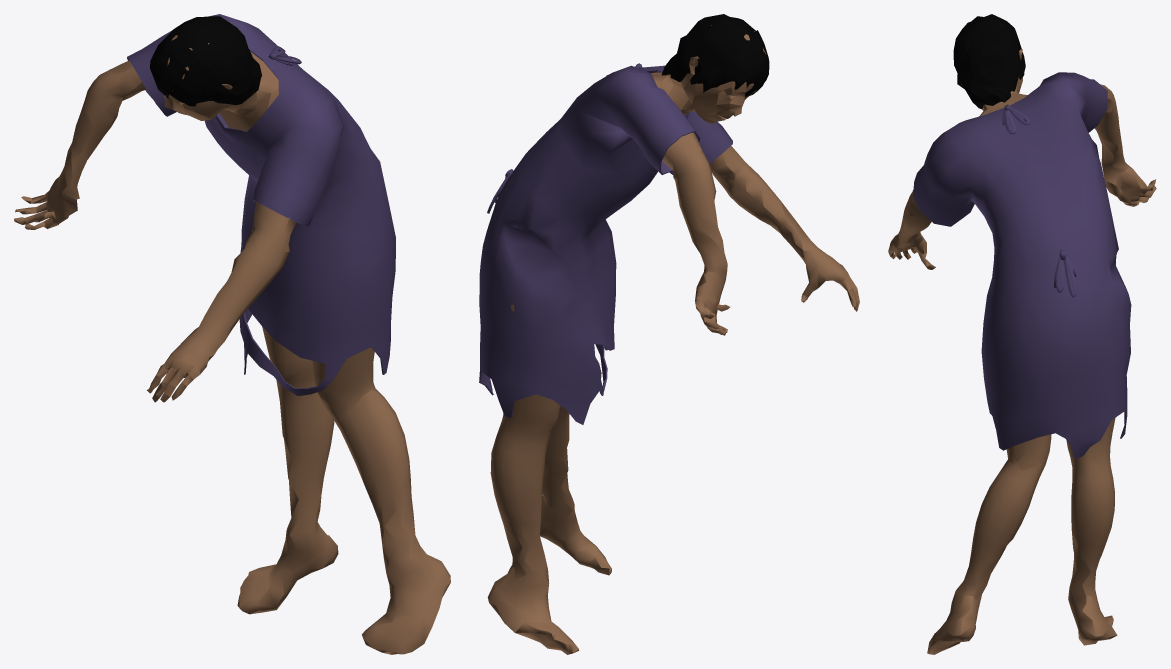
The model's file is 19 Zombie 2.FBX.
The picture shows the model from 3 angles, left to right: view 1: azimuth 30°, elevation 25°; view 2: azimuth 150°, elevation 25°; view 3: azimuth 270°, elevation 25°; orthographic projection. The views are drawn at different scales.
Parts seen in each view (by area): view 1: Zombie 2; view 2: Zombie 2; view 3: Zombie 2.
Boxes of the visible parts, box(x1,y1,x2,y2) form: Zombie 2: box(14, 14, 450, 654); Zombie 2: box(479, 14, 859, 654); Zombie 2: box(888, 14, 1156, 654).
Size of the model in its own units: 244 by 469 by 199.
